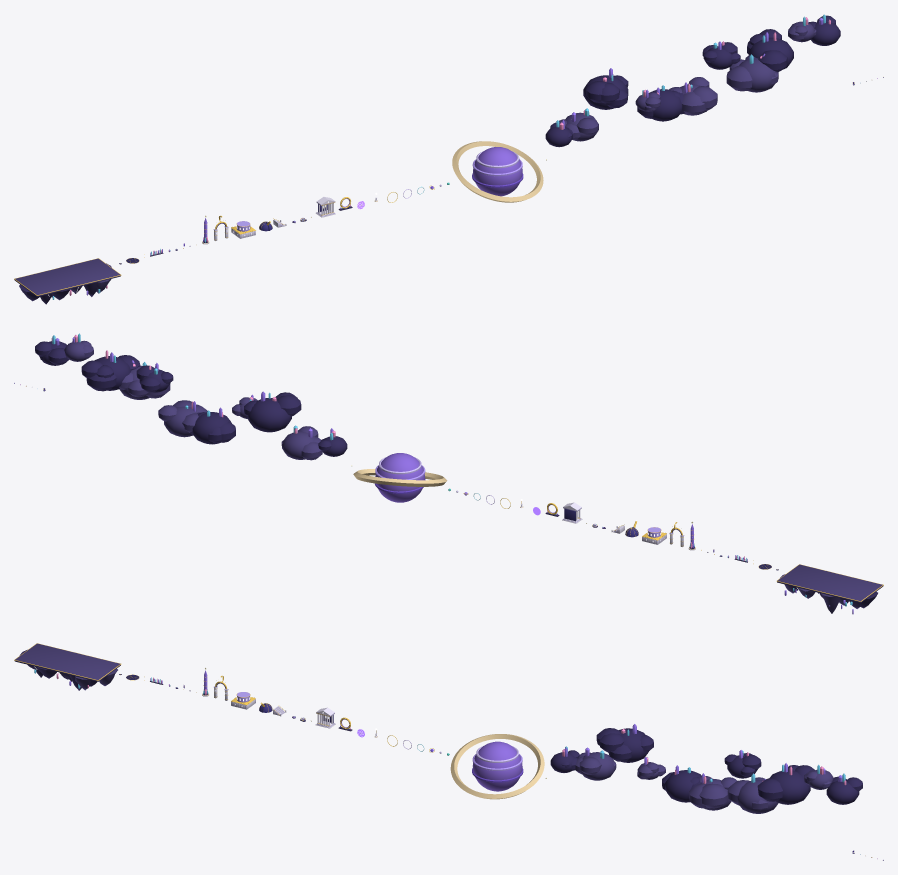
Rendered from Cosmic_Pack.fbx.
3 views of the same model, one above another, from view 1: azimuth 30°, elevation 25°; view 2: azimuth 150°, elevation 25°; view 3: azimuth 330°, elevation 25° (orthographic).
Visible parts, largest first — view 1: AsteroidRange__Rocks0__332B5CSP, AsteroidRange__Rocks1__4A4078SP, CosmicIsland__Top__4A4078SP, GiantPlanet__Body__8C6BE0SP, GiantPlanet__Ring__F2D8A8SP; view 2: AsteroidRange__Rocks0__332B5CSP, AsteroidRange__Rocks1__4A4078SP, CosmicIsland__Top__4A4078SP, GiantPlanet__Body__8C6BE0SP, GiantPlanet__Ring__F2D8A8SP; view 3: AsteroidRange__Rocks0__332B5CSP, AsteroidRange__Rocks1__4A4078SP, CosmicIsland__Top__4A4078SP, GiantPlanet__Body__8C6BE0SP, GiantPlanet__Ring__F2D8A8SP.
Part boxes in pixels (x1,y1,x2,y2): AsteroidRange__Rocks0__332B5CSP: (545, 15, 840, 147); AsteroidRange__Rocks1__4A4078SP: (559, 21, 816, 141); CosmicIsland__Top__4A4078SP: (14, 258, 120, 296); GiantPlanet__Body__8C6BE0SP: (473, 147, 522, 196); GiantPlanet__Ring__F2D8A8SP: (452, 141, 543, 202); AsteroidRange__Rocks0__332B5CSP: (35, 341, 347, 456); AsteroidRange__Rocks1__4A4078SP: (64, 340, 322, 460); CosmicIsland__Top__4A4078SP: (777, 564, 883, 602); GiantPlanet__Body__8C6BE0SP: (375, 453, 425, 502); GiantPlanet__Ring__F2D8A8SP: (353, 469, 447, 486); AsteroidRange__Rocks0__332B5CSP: (550, 728, 862, 804); AsteroidRange__Rocks1__4A4078SP: (574, 752, 833, 813); CosmicIsland__Top__4A4078SP: (14, 643, 120, 681); GiantPlanet__Body__8C6BE0SP: (472, 741, 522, 791); GiantPlanet__Ring__F2D8A8SP: (450, 734, 544, 799).
Size of the model in its own units: 2389 by 259 by 225.
